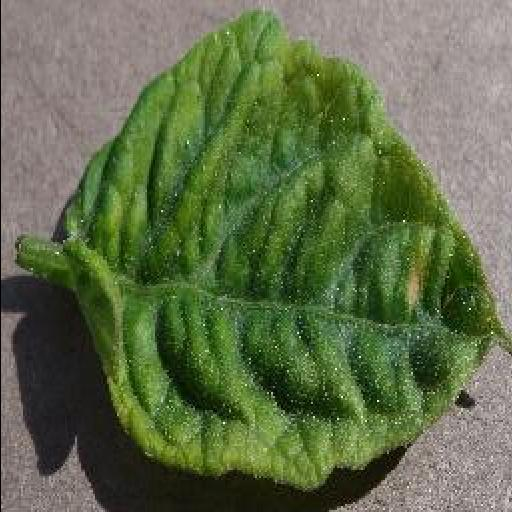disease_tomato: (64, 6, 512, 488)
